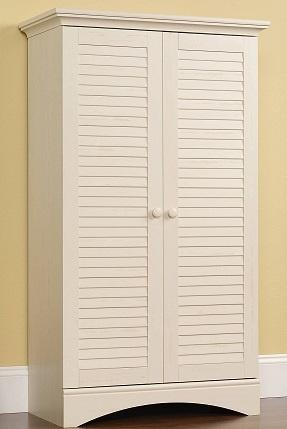cabinet_door: (62, 30, 164, 386), (164, 35, 257, 381)
handle: (166, 206, 180, 221)
